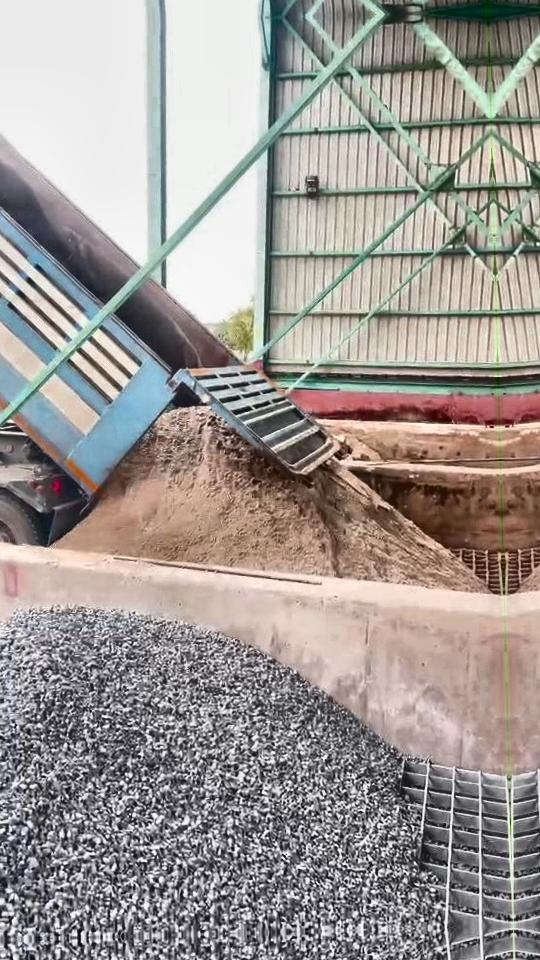gravel: (0, 608, 440, 939)
sand: (56, 408, 484, 590), (331, 427, 385, 462)
